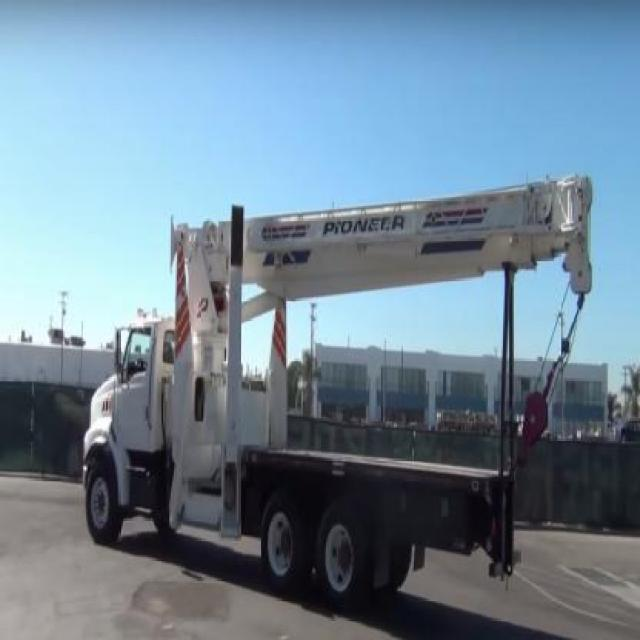Mobile Crane: (82, 173, 592, 615)
